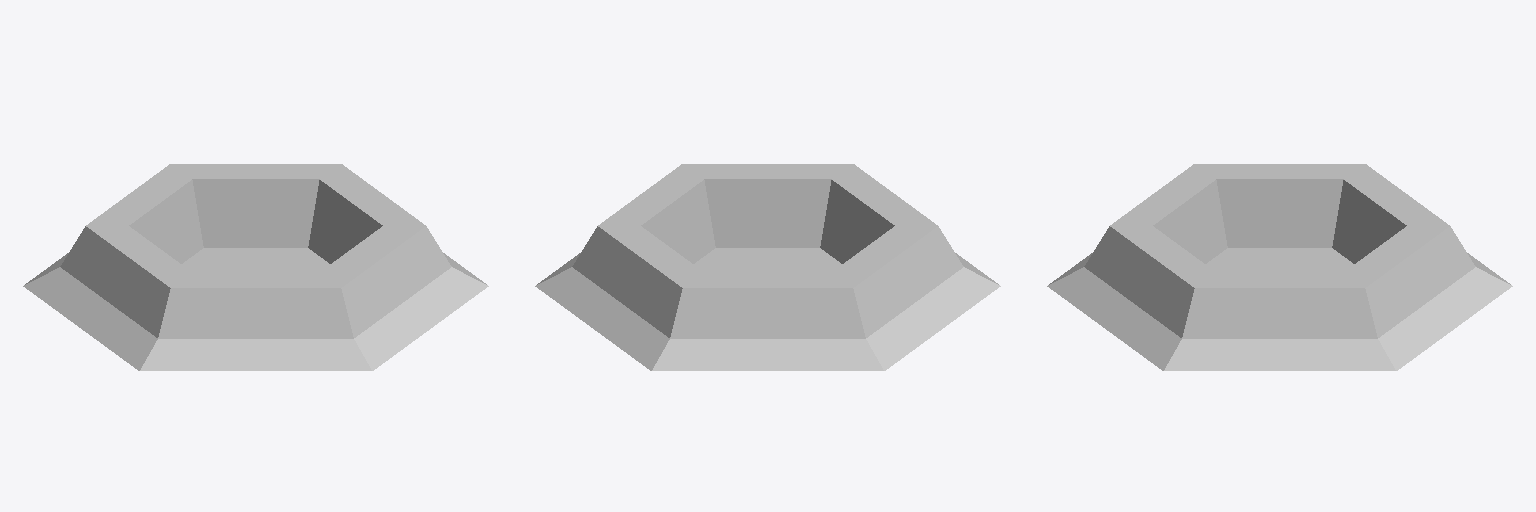
File: crater.obj
3 renders of one model, left to right at view 1: azimuth 30°, elevation 25°; view 2: azimuth 150°, elevation 25°; view 3: azimuth 270°, elevation 25°, orthographic.
Parts seen in each view (by area): view 1: crater; view 2: crater; view 3: crater.
Boxes of the visible parts, box(x1,y1,x2,y2) form: crater: box(23, 164, 488, 370); crater: box(535, 164, 1000, 370); crater: box(1047, 164, 1512, 370).
Size of the model in its own units: 7.15 by 1.18 by 8.26.